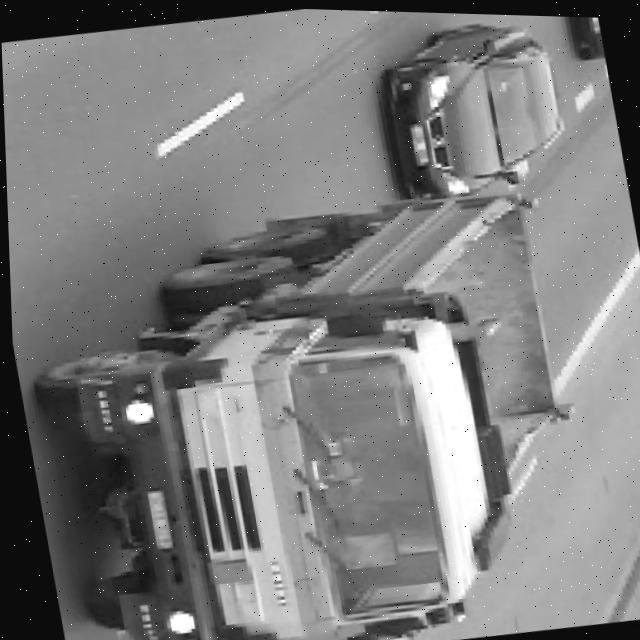truck: (8, 164, 608, 640)
